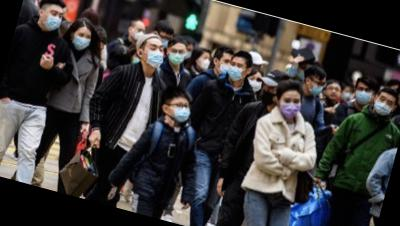with_mask: (277, 92, 305, 122), (140, 40, 168, 68), (167, 97, 195, 125), (372, 92, 397, 118), (41, 7, 66, 32), (226, 58, 248, 83), (256, 83, 278, 108), (352, 83, 375, 106), (72, 28, 94, 52), (166, 44, 187, 68), (245, 73, 265, 94), (309, 77, 327, 97), (217, 54, 233, 75), (156, 32, 174, 50), (130, 25, 148, 42), (198, 53, 213, 70)
without_mask: (323, 84, 343, 101)
